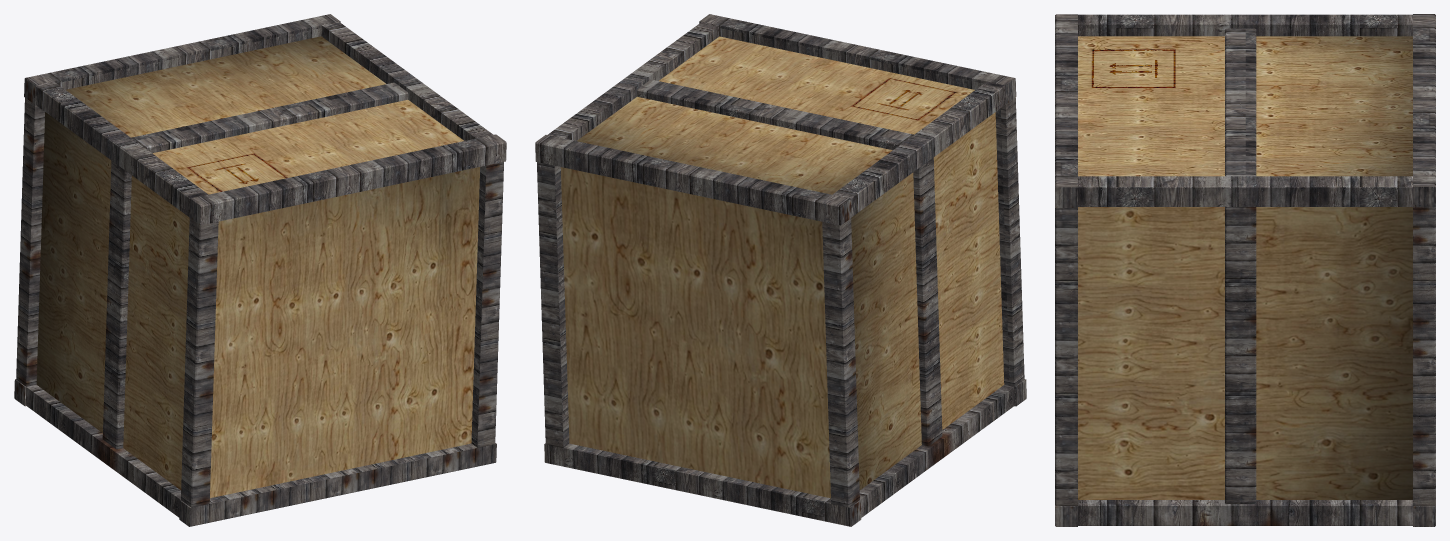
File: Wooden Box.fbx
3 renders of one model, left to right at view 1: azimuth 30°, elevation 25°; view 2: azimuth 150°, elevation 25°; view 3: azimuth 270°, elevation 25°, orthographic. The views are drawn at different scales.
Visible parts, largest first — view 1: Wooden_Box__Lod:0, Wooden_Box__Lod:1; view 2: Wooden_Box__Lod:1, Wooden_Box__Lod:0; view 3: Wooden_Box__Lod:1, Wooden_Box__Lod:0.
Part boxes in pixels (x1,y1,x2,y2): Wooden_Box__Lod:0: (14, 25, 506, 526); Wooden_Box__Lod:1: (20, 14, 506, 526); Wooden_Box__Lod:1: (535, 14, 1020, 526); Wooden_Box__Lod:0: (535, 23, 1026, 526); Wooden_Box__Lod:1: (1055, 29, 1435, 526); Wooden_Box__Lod:0: (1055, 14, 1435, 526).
Size of the model in its own units: 104 by 103 by 99.99.
